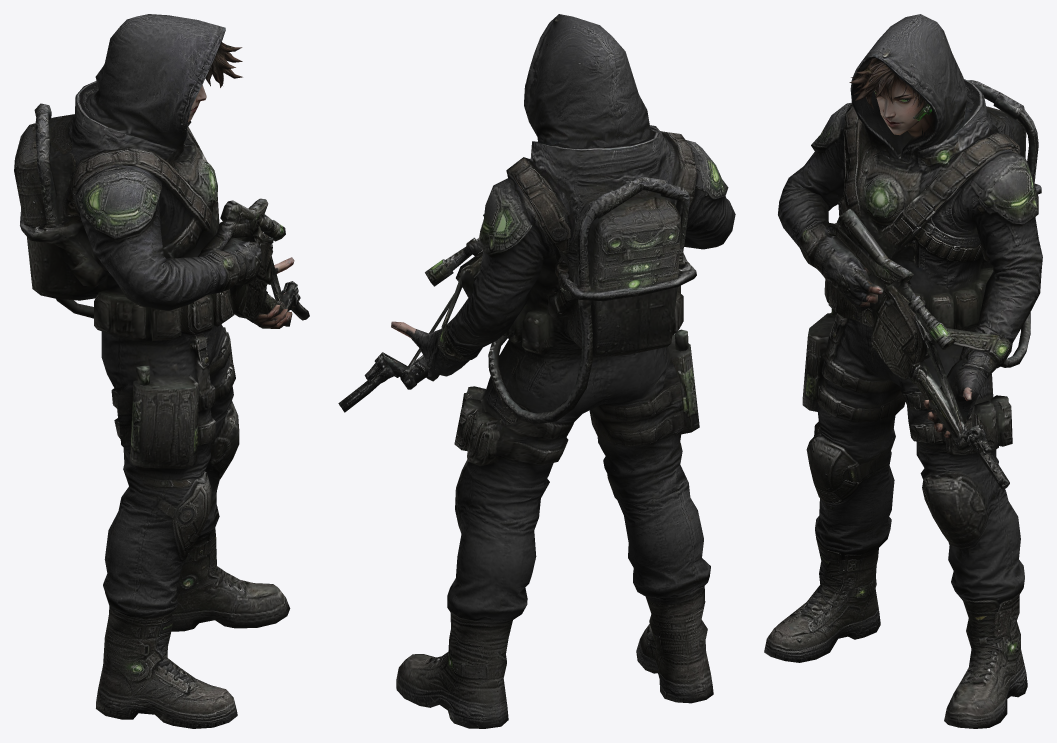
The model's file is scout.fbx.
3 renders of one model, left to right at view 1: azimuth 30°, elevation 25°; view 2: azimuth 150°, elevation 25°; view 3: azimuth 270°, elevation 25°, orthographic. The views are drawn at different scales.
Visible parts, largest first — view 1: tripo_node_782746a4; view 2: tripo_node_782746a4; view 3: tripo_node_782746a4.
Boxes of the visible parts, x1,y1,x2,y2 form: tripo_node_782746a4: (14,14,309,728); tripo_node_782746a4: (338,14,735,728); tripo_node_782746a4: (764,14,1042,728).
Size of the model in its own units: 0.502 by 0.998 by 0.3965.
